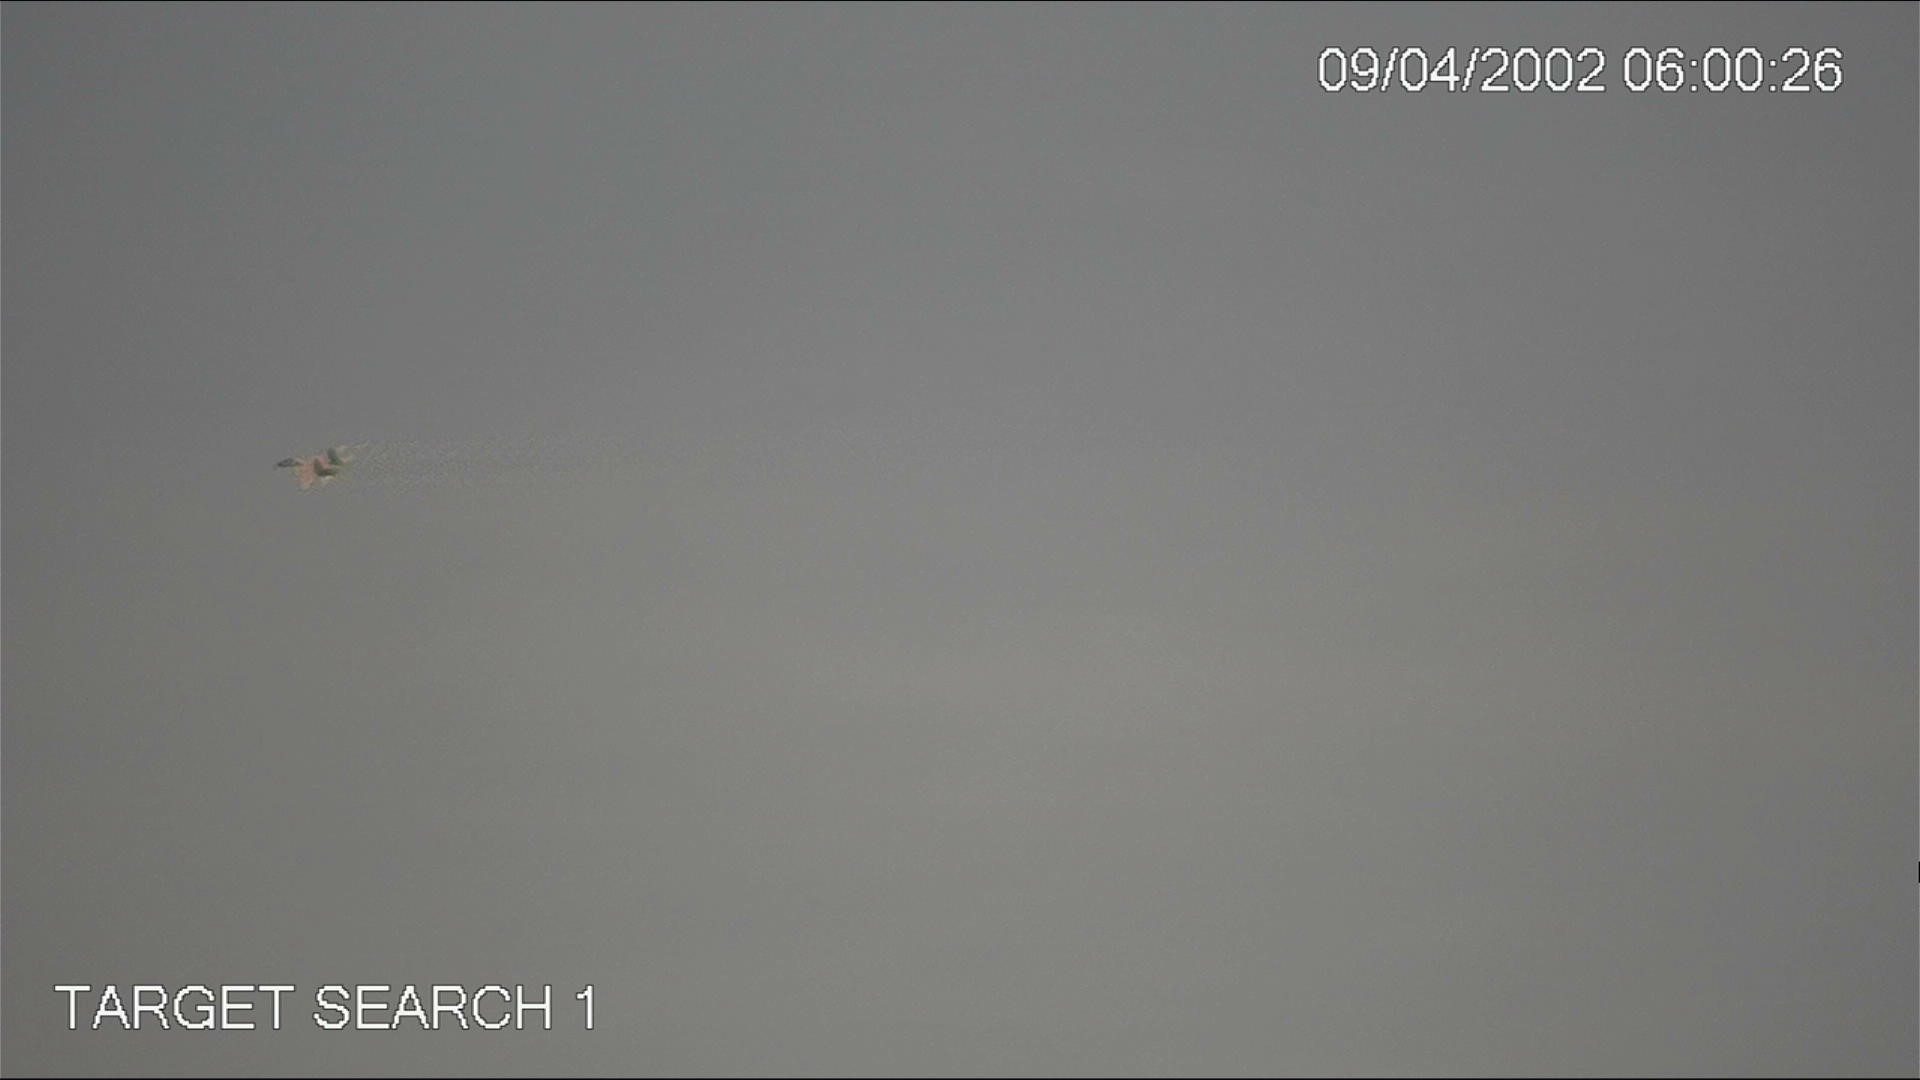SU_30: (266, 448, 347, 492)
